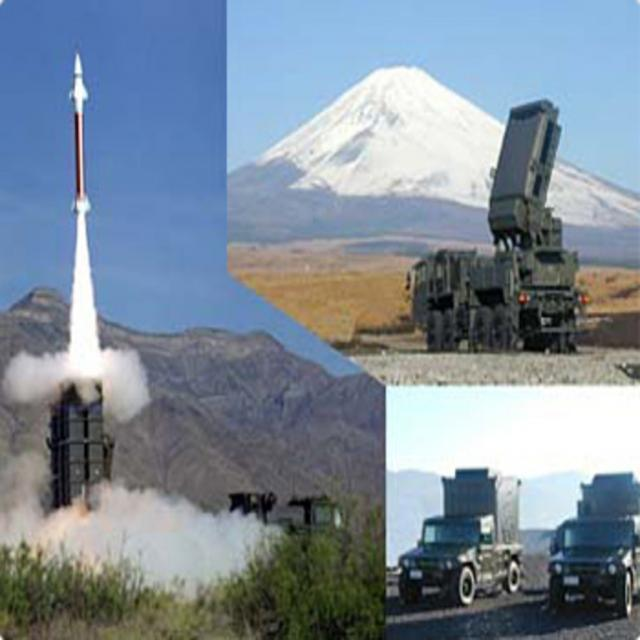missile: (62, 48, 100, 213)
